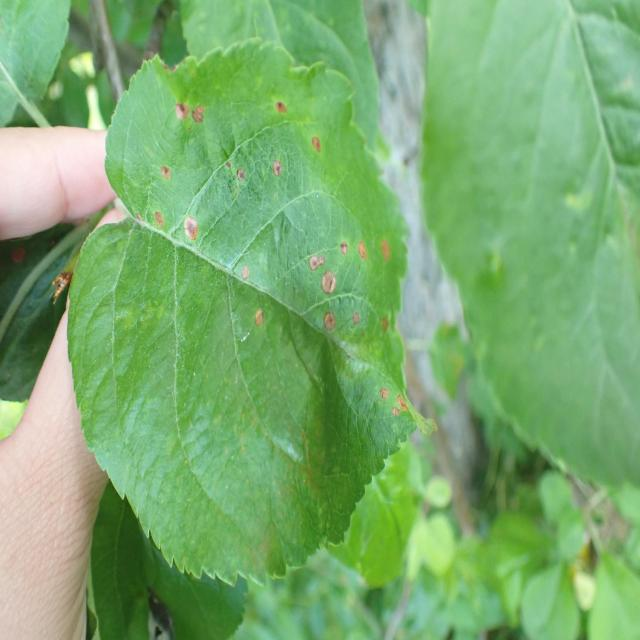Black Rot: (150, 80, 213, 132), (298, 244, 338, 312), (364, 374, 412, 417), (302, 125, 343, 172), (248, 293, 274, 364), (224, 143, 250, 203), (173, 210, 205, 256), (315, 304, 341, 357), (142, 188, 168, 238), (150, 154, 194, 181), (352, 222, 374, 267), (377, 219, 397, 267), (263, 149, 289, 185), (267, 84, 287, 129), (234, 258, 254, 289)
